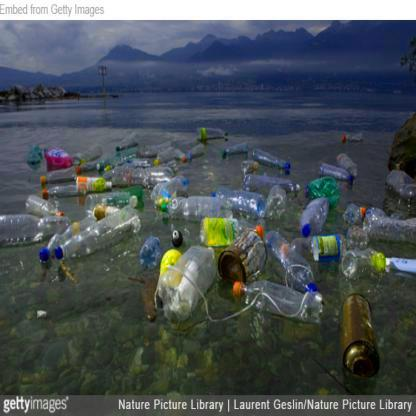Metal: (338, 295, 381, 380)
Plastic: (37, 202, 145, 265), (153, 243, 221, 327), (233, 275, 328, 325), (262, 230, 324, 296), (0, 209, 58, 248), (253, 183, 292, 240), (155, 191, 231, 220), (364, 203, 416, 242), (35, 172, 112, 198), (341, 240, 387, 277), (249, 143, 292, 177), (147, 176, 193, 205), (383, 165, 416, 205), (301, 196, 332, 237), (319, 157, 360, 186), (22, 194, 63, 221), (220, 140, 255, 160), (195, 124, 231, 140)
